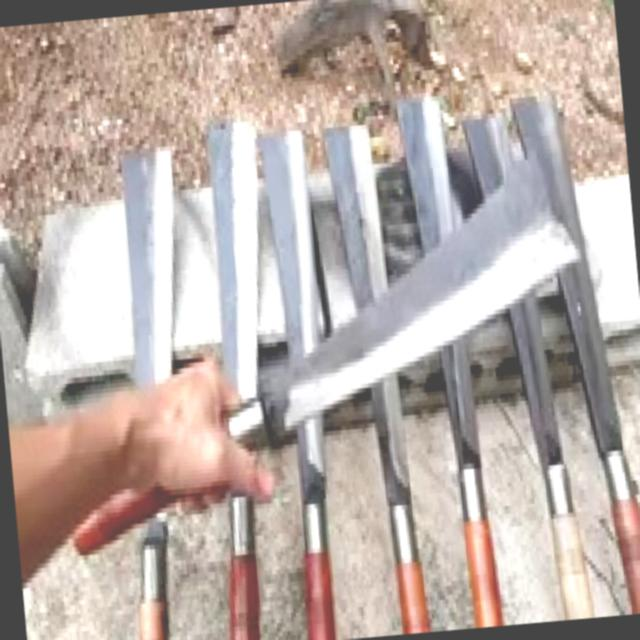eto: (66, 147, 582, 557)
